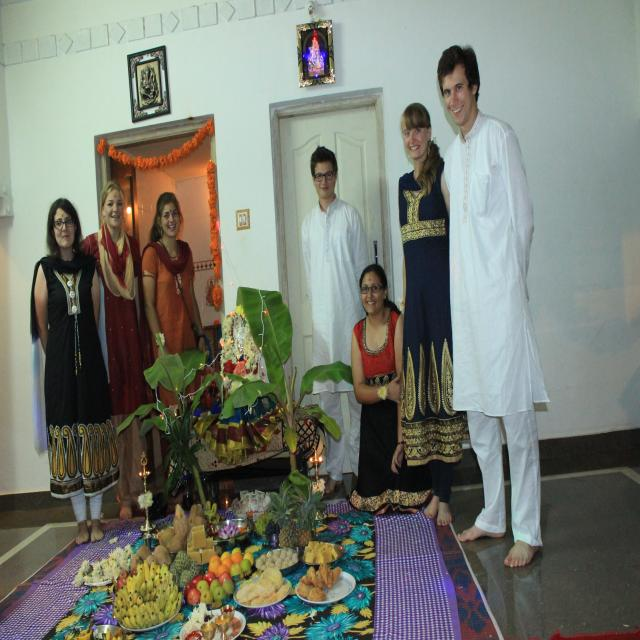body: (435, 38, 554, 575), (26, 190, 124, 550), (396, 101, 469, 527), (78, 180, 156, 522), (345, 261, 442, 521), (300, 144, 370, 497), (140, 190, 208, 411), (292, 20, 334, 86)
